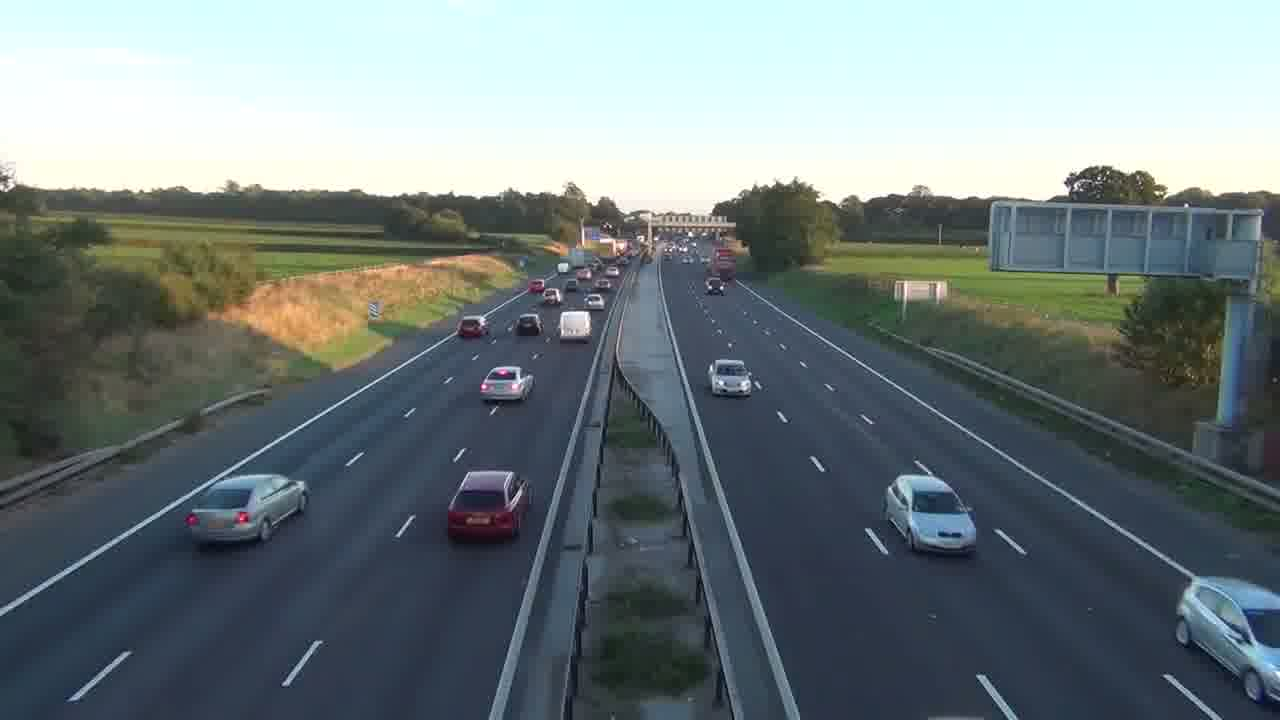car: (1174, 575, 1280, 706), (183, 473, 310, 549), (883, 472, 978, 556), (446, 468, 531, 541), (480, 365, 534, 403), (708, 358, 754, 397)
